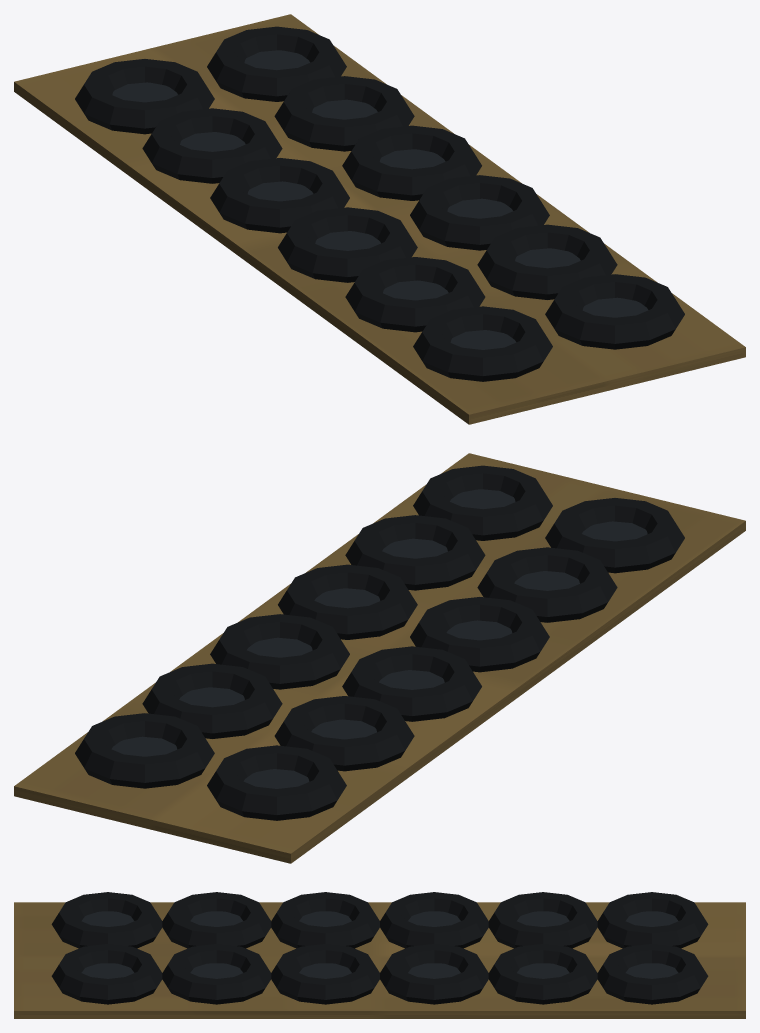
The model's file is fac_obst_tires.glb.
3 renders of one model, top to bottom at view 1: azimuth 30°, elevation 25°; view 2: azimuth 150°, elevation 25°; view 3: azimuth 270°, elevation 25°, orthographic. The views are drawn at different scales.
Visible parts, largest first — view 1: FAC_OBST_TIRES; view 2: FAC_OBST_TIRES; view 3: FAC_OBST_TIRES.
Boxes of the visible parts, x1=… form: FAC_OBST_TIRES: x1=14, y1=14, x2=745, y2=424; FAC_OBST_TIRES: x1=14, y1=453, x2=745, y2=863; FAC_OBST_TIRES: x1=14, y1=892, x2=745, y2=1018.
Size of the model in its own units: 2.6 by 0.2899 by 7.4.
3 materials, 1 textured.
